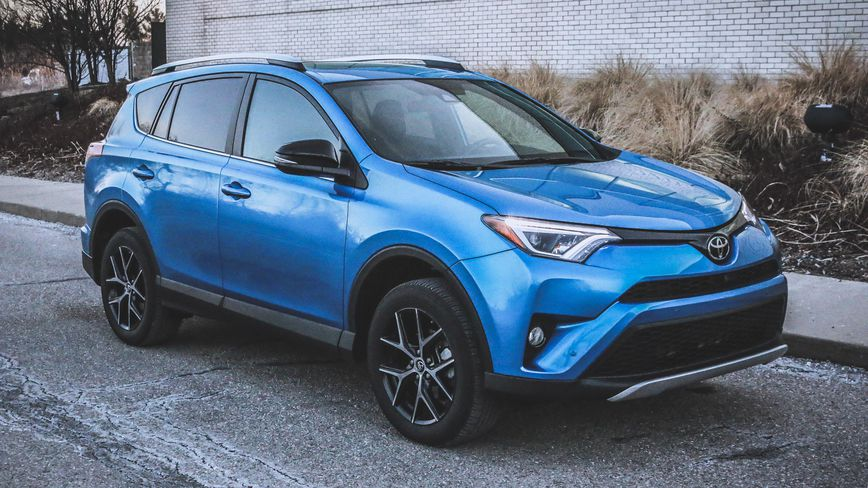Toyota RAV-4: (79, 59, 792, 449)
